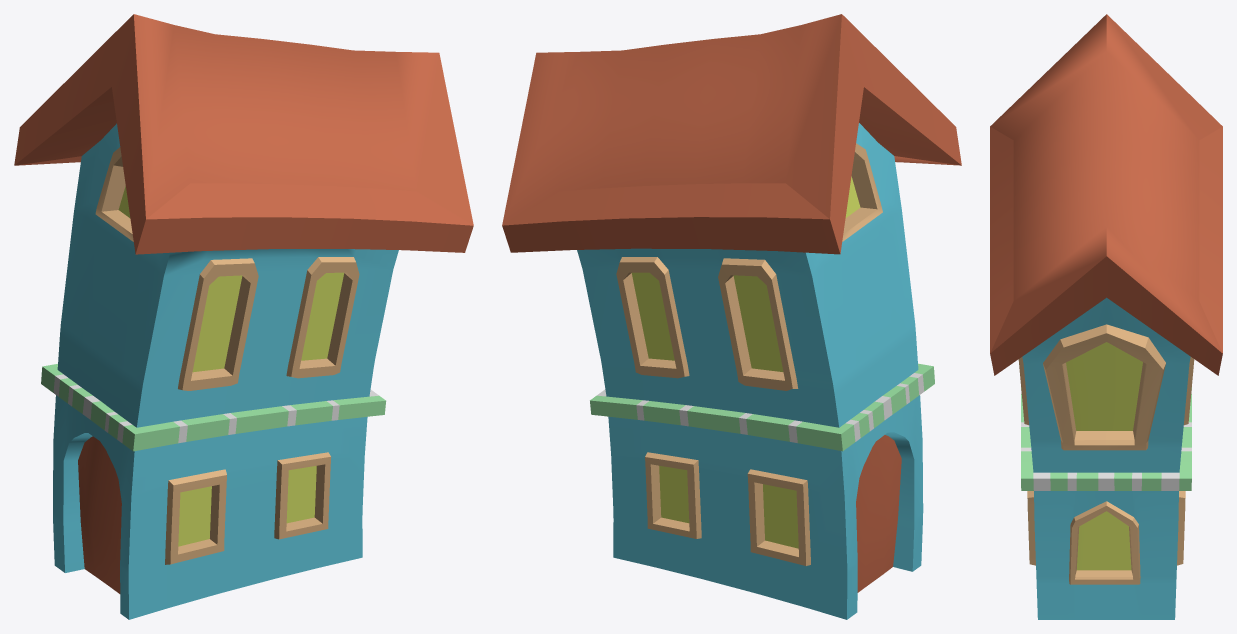
Rendered from House01.fbx.
The picture shows the model from 3 angles, left to right: view 1: azimuth 30°, elevation 25°; view 2: azimuth 150°, elevation 25°; view 3: azimuth 270°, elevation 25°; orthographic projection. The views are drawn at different scales.
Visible parts, largest first — view 1: House01; view 2: House01; view 3: House01.
Part boxes in pixels (x1,y1,x2,y2): House01: [14, 14, 473, 619]; House01: [502, 14, 961, 619]; House01: [990, 14, 1222, 619].
Size of the model in its own units: 2.09 by 3.12 by 1.25.
